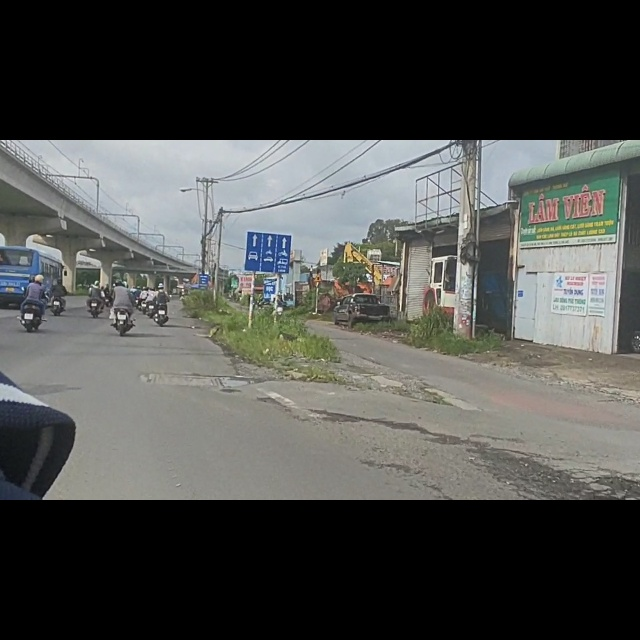bien_chi_dan: (244, 154, 292, 241), (313, 238, 325, 254)
